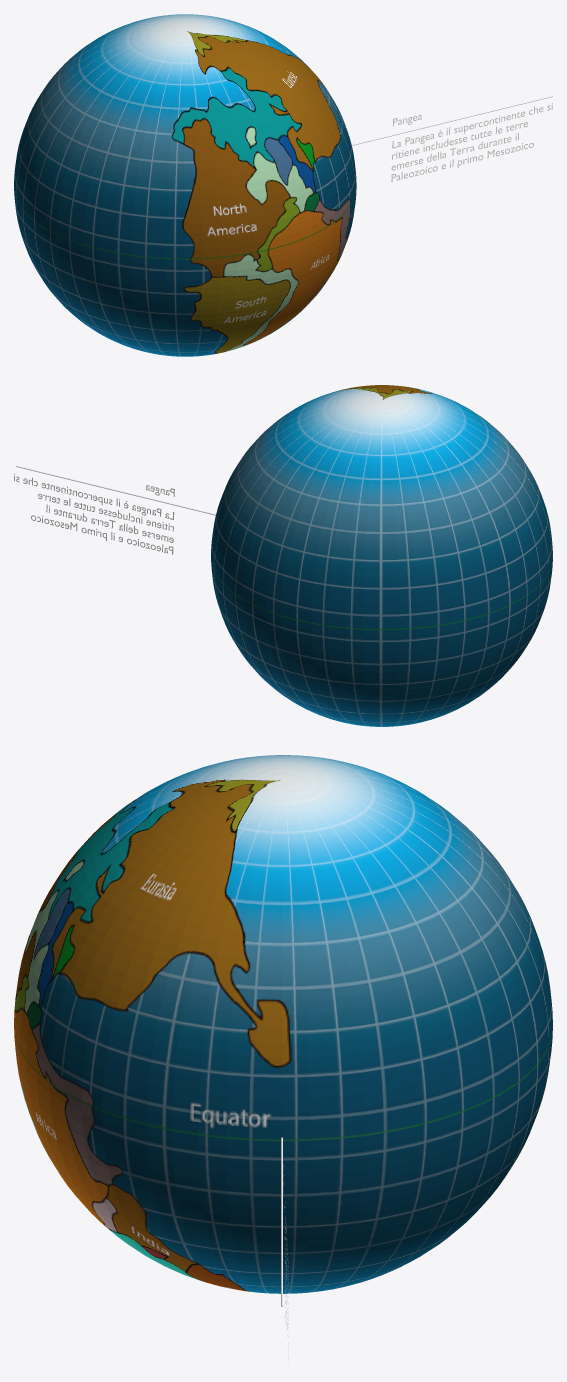
The model's file is Pangea-2.gltf.
3 renders of one model, top to bottom at view 1: azimuth 30°, elevation 25°; view 2: azimuth 150°, elevation 25°; view 3: azimuth 270°, elevation 25°, orthographic. The views are drawn at different scales.
Parts seen in each view (by area): view 1: Sphere, Text; view 2: Sphere, Text; view 3: Sphere.
Part boxes in pixels (bbox=[...]): Sphere: bbox=[14, 14, 356, 356]; Text: bbox=[391, 102, 552, 181]; Sphere: bbox=[211, 385, 552, 726]; Text: bbox=[14, 474, 174, 554]; Sphere: bbox=[14, 755, 552, 1293].
Size of the model in its own units: 9.5 by 5.46 by 5.46.
2 materials, 1 textured.
